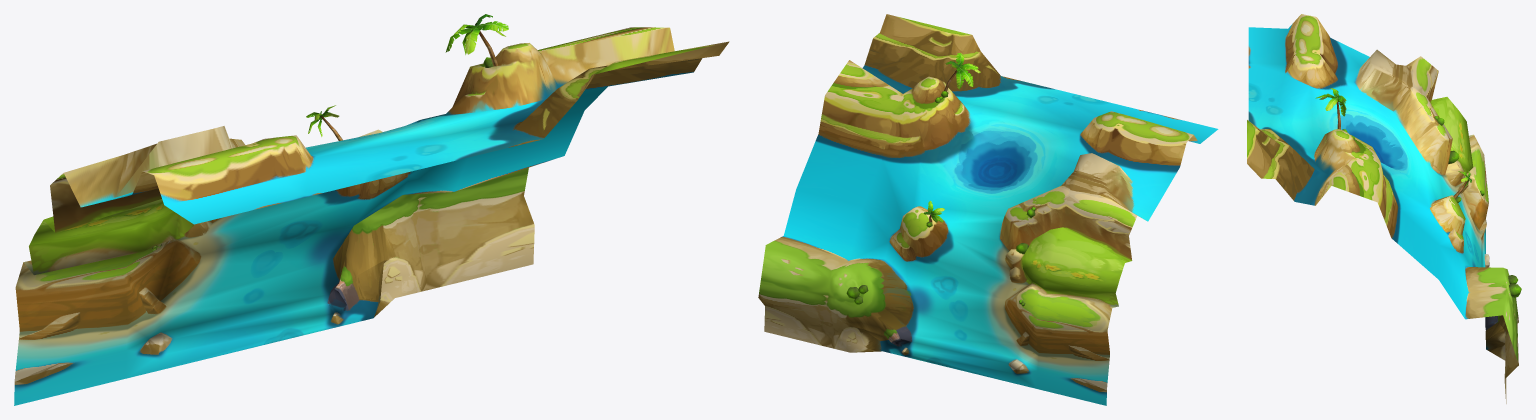
Rendered from Chapter5Model3.FBX.
The picture shows the model from 3 angles, left to right: view 1: azimuth 30°, elevation 25°; view 2: azimuth 150°, elevation 25°; view 3: azimuth 270°, elevation 25°; orthographic projection. The views are drawn at different scales.
Parts seen in each view (by area): view 1: Chapter5Model3Model1, Chapter5Model3Model2; view 2: Chapter5Model3Model1, Chapter5Model3Model2, Chapter5Model3Model3; view 3: Chapter5Model3Model1, Chapter5Model3Model2, Chapter5Model3Model3.
Boxes of the visible parts, x1,y1,x2,y2 form: Chapter5Model3Model1: (14, 27, 729, 405); Chapter5Model3Model2: (306, 14, 508, 140); Chapter5Model3Model1: (758, 14, 1218, 405); Chapter5Model3Model2: (923, 53, 980, 222); Chapter5Model3Model3: (846, 91, 1035, 306); Chapter5Model3Model1: (1247, 14, 1518, 403); Chapter5Model3Model2: (1315, 88, 1471, 198); Chapter5Model3Model3: (1342, 116, 1521, 297).
Size of the model in its own units: 970 by 654 by 668.
